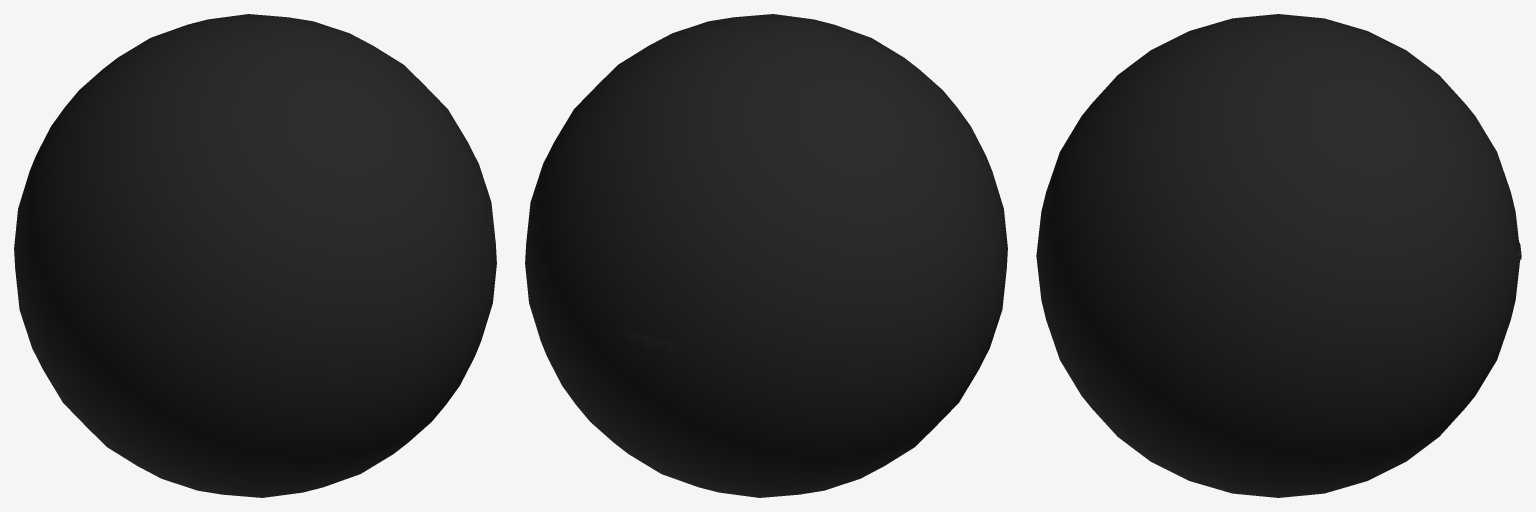
The model's file is black_circle.glb.
3 renders of one model, left to right at view 1: azimuth 30°, elevation 25°; view 2: azimuth 150°, elevation 25°; view 3: azimuth 270°, elevation 25°, orthographic.
Parts seen in each view (by area): view 1: black_circle; view 2: black_circle; view 3: black_circle.
Part boxes in pixels (box(x1,y1,x2,y2)): black_circle: box(14, 14, 496, 497); black_circle: box(525, 14, 1007, 497); black_circle: box(1036, 14, 1521, 497).
Size of the model in its own units: 2.23 by 2.23 by 2.23.
1 material, 1 textured.
